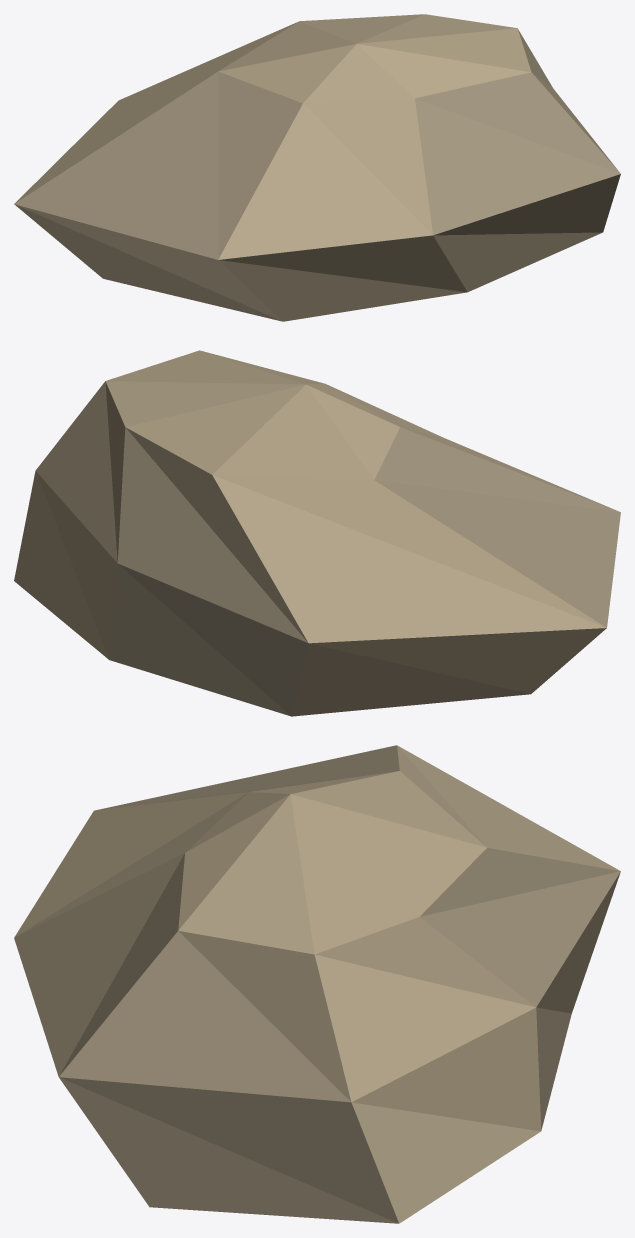
File: rock-flat.glb
3 views of the same model, one above another, from view 1: azimuth 30°, elevation 25°; view 2: azimuth 150°, elevation 25°; view 3: azimuth 270°, elevation 25° (orthographic). The views are drawn at different scales.
Visible parts, largest first — view 1: rock-flat; view 2: rock-flat; view 3: rock-flat.
Boxes of the visible parts, left/top/right/bottom form: rock-flat: left=14, top=14, right=620, bottom=321; rock-flat: left=14, top=350, right=620, bottom=716; rock-flat: left=14, top=745, right=620, bottom=1223.
Bounding box in the file's own units: 1.05 × 0.38 × 0.7487.
